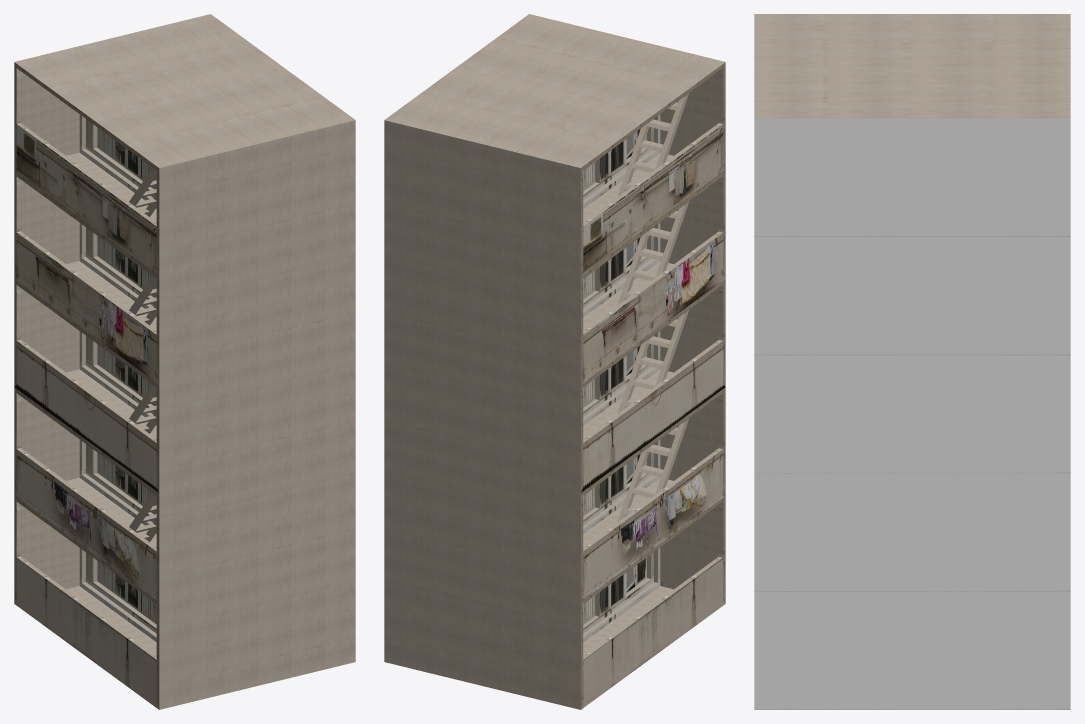
The model's file is building06a.fbx.
3 renders of one model, left to right at view 1: azimuth 30°, elevation 25°; view 2: azimuth 150°, elevation 25°; view 3: azimuth 270°, elevation 25°, orthographic. The views are drawn at different scales.
Parts seen in each view (by area): view 1: building06a; view 2: building06a; view 3: building06a.
Boxes of the visible parts, x1=… form: building06a: x1=14, y1=14, x2=355, y2=709; building06a: x1=384, y1=14, x2=725, y2=709; building06a: x1=754, y1=14, x2=1070, y2=709.
Size of the model in its own units: 78.44 by 207 by 100.
